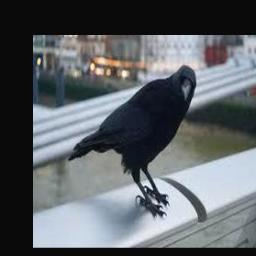Crow: (68, 66, 195, 218)
